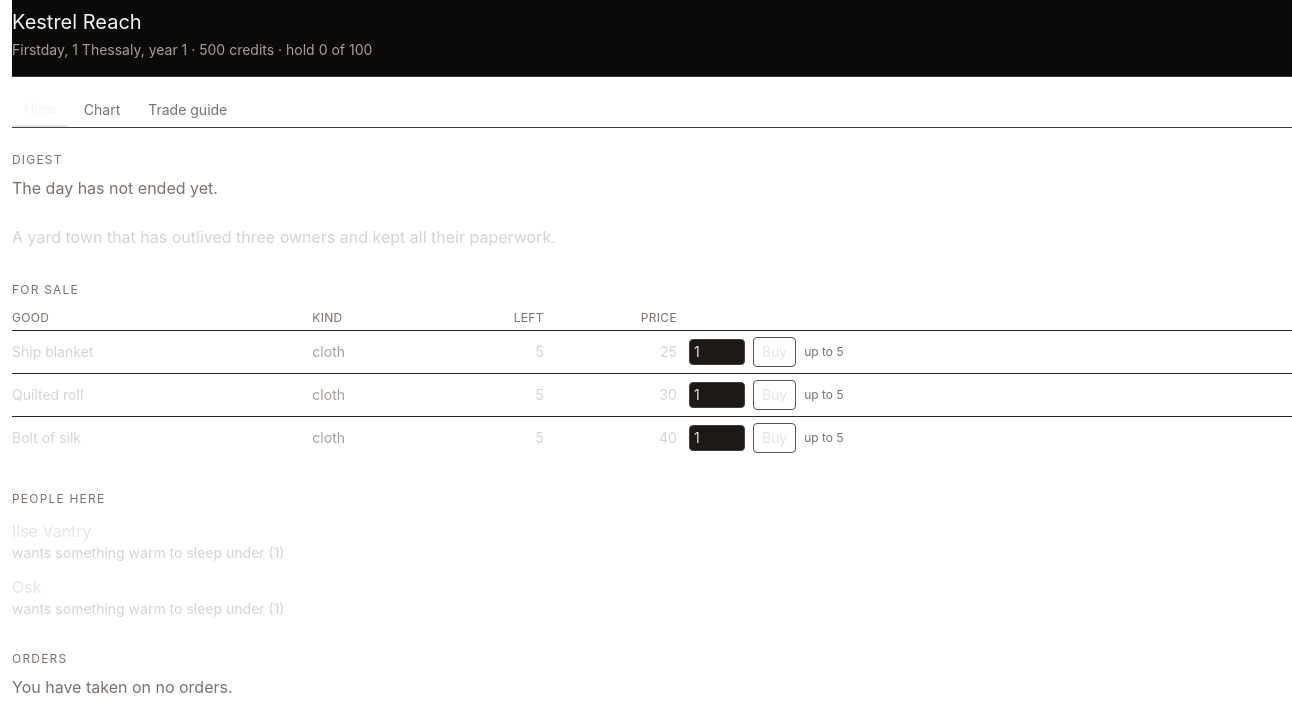
the trade guide on the page › gives every location its kinds, and says an unvisited one is unvisited
The width and height of the screenshot is (1292, 720).
What coordinates should you click on to do the following:
click the tab "Trade guide"
I would click on:
 (188, 110)
Its box is left=136, top=93, right=239, bottom=127.
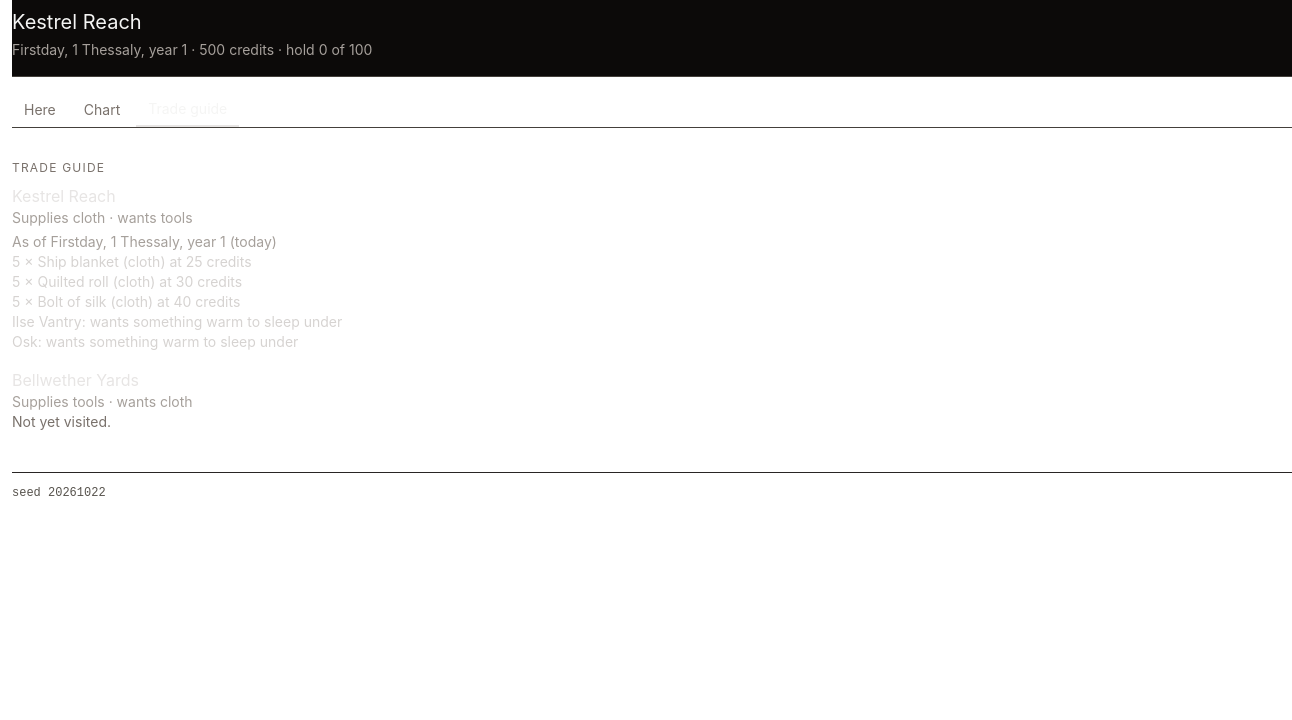
Now the list item "Bellwether Yards" shows "Supplies tools", box left=12, top=370, right=193, bottom=430
Now the list item "Bellwether Yards" shows "wants cloth", box left=12, top=370, right=193, bottom=430
Now the list item "Bellwether Yards" shows "Not yet visited.", box left=12, top=413, right=111, bottom=430
